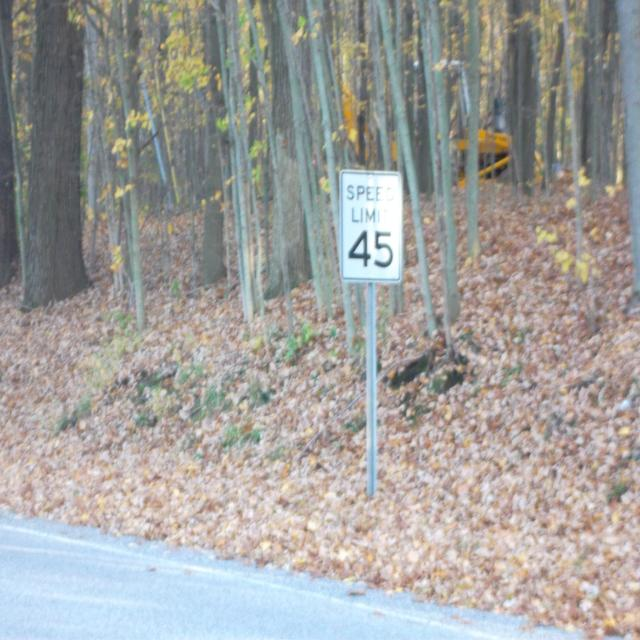regulatory: (337, 162, 406, 287)
